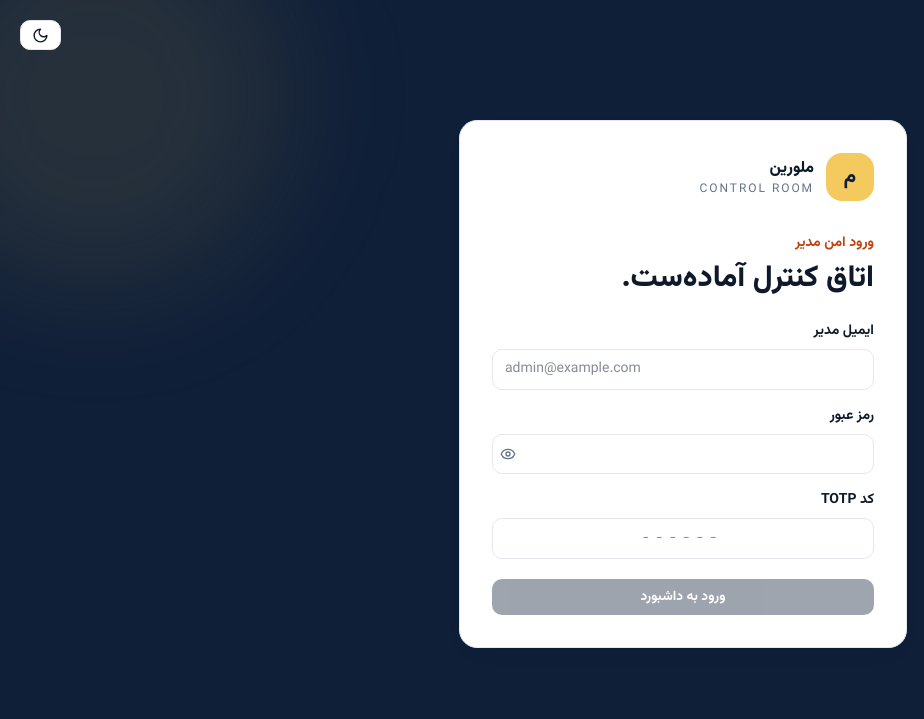
AdminAuth sign-in failures › wrong e-mail/password: red notice under the password, e-mail + password flagged, TOTP untouched
Type "root@example.com" into the field labelled "ایمیل مدیر" at (683, 369), box [492,349,874,390]
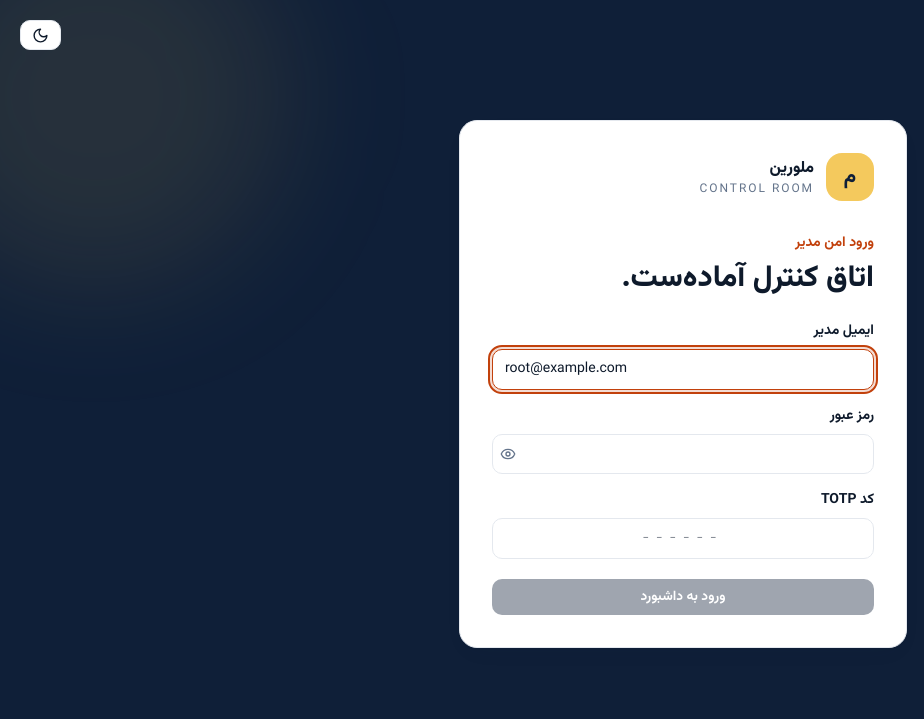
Type "a-long-enough-password" into the password field labelled "رمز عبور" at (683, 454), box [492,434,874,474]
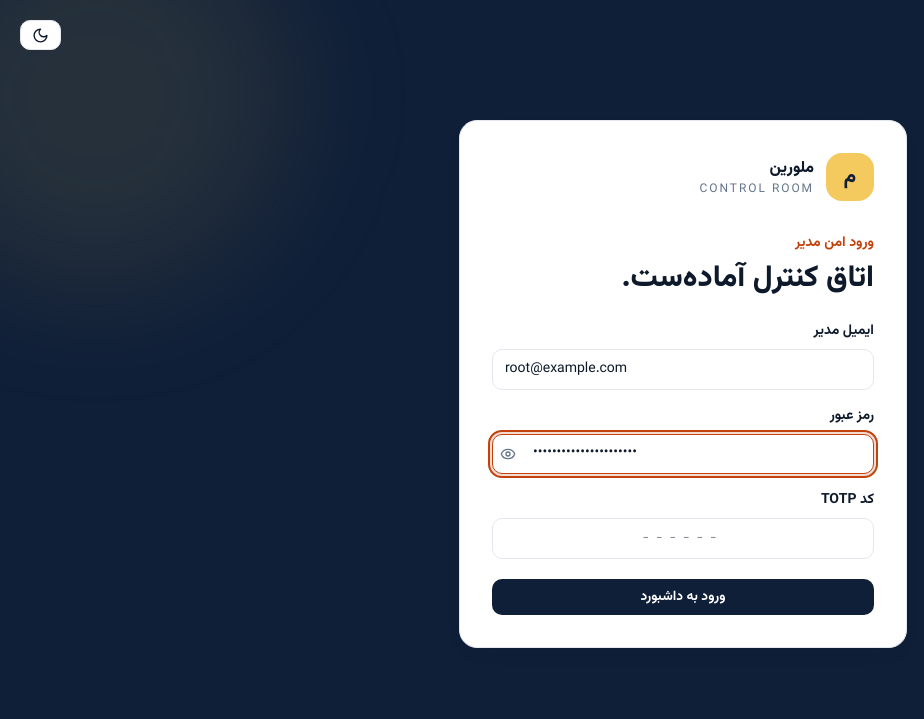
Type "123456" into the field labelled "کد TOTP" at (683, 538), box [492,518,874,559]
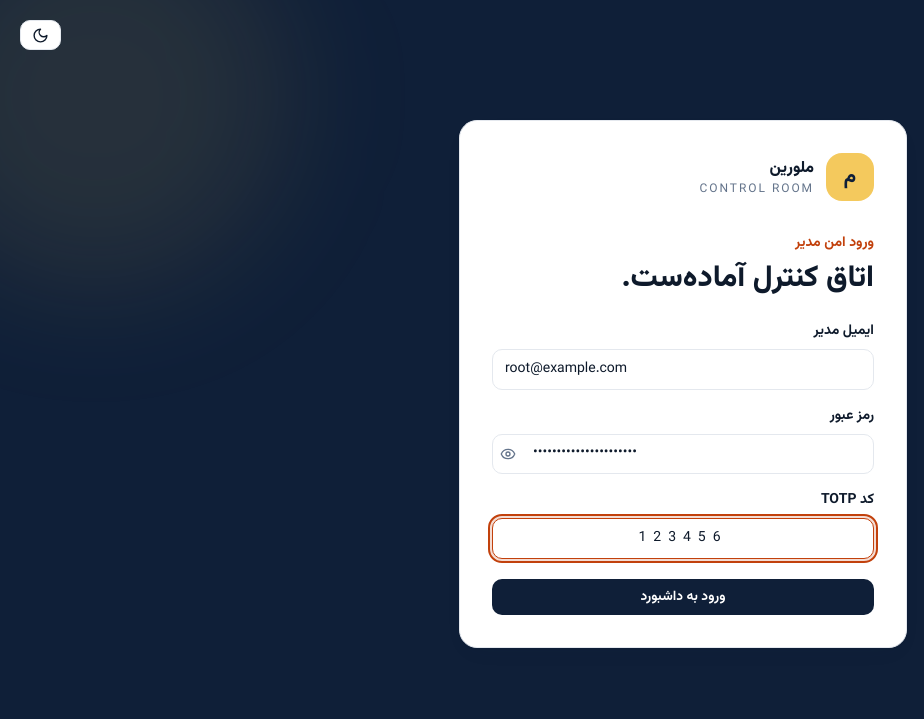
Click the button "ورود به داشبورد" at (683, 597), box [492,579,874,615]
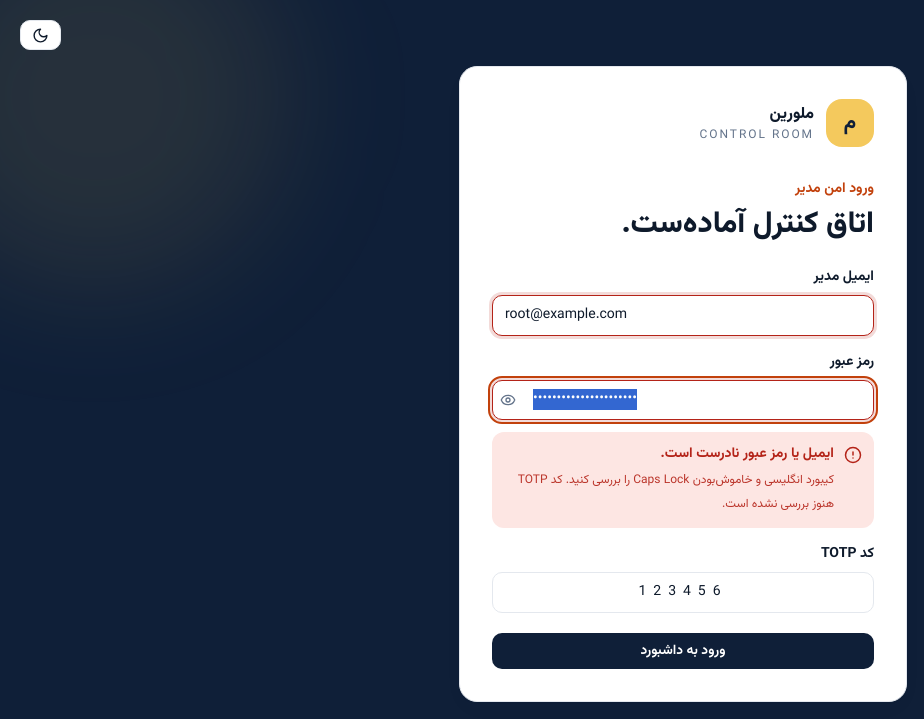
Check: the message with test id "login-failure-credentials" shows "ایمیل یا رمز عبور نادرست است.", box [661,443,834,465]
